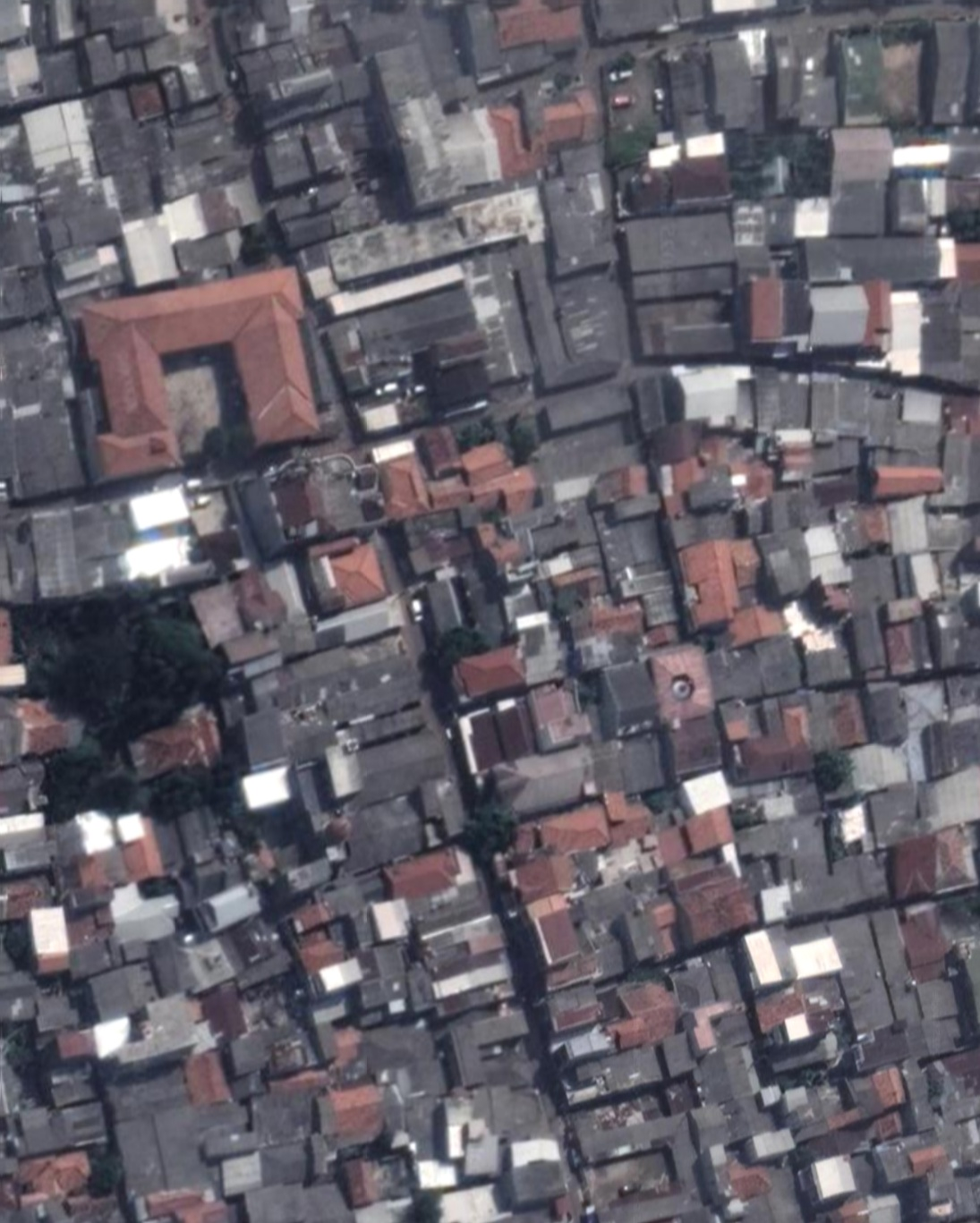building: (71, 268, 327, 483), (211, 612, 435, 785), (371, 29, 507, 208), (324, 184, 546, 284), (519, 862, 683, 996), (734, 799, 884, 937), (507, 222, 630, 388), (16, 86, 131, 254), (852, 903, 960, 1074), (188, 550, 324, 685), (236, 437, 380, 559), (569, 1091, 701, 1223), (101, 1057, 212, 1205), (0, 313, 85, 501), (0, 488, 137, 600), (344, 840, 485, 944), (104, 0, 228, 117), (430, 1074, 560, 1182), (584, 473, 690, 604), (312, 711, 448, 813), (135, 94, 256, 204), (152, 170, 274, 277), (399, 908, 517, 1018), (486, 73, 604, 178), (83, 85, 172, 224), (276, 882, 379, 1001), (556, 1028, 699, 1107), (431, 1000, 540, 1103), (238, 50, 370, 134), (468, 742, 592, 830), (663, 940, 756, 1057), (532, 140, 612, 274), (457, 248, 535, 384), (353, 285, 476, 367), (125, 702, 233, 792), (198, 1078, 321, 1156), (318, 788, 427, 874), (437, 995, 539, 1086), (658, 855, 754, 951), (717, 691, 814, 784), (839, 1052, 938, 1143), (621, 130, 732, 209), (822, 909, 891, 1035), (666, 532, 752, 633), (356, 1012, 446, 1108), (324, 260, 467, 318), (880, 821, 980, 902), (99, 992, 195, 1074), (144, 917, 242, 997), (97, 866, 186, 953), (767, 23, 839, 128), (0, 1086, 106, 1157), (295, 530, 387, 611), (0, 1138, 96, 1215), (73, 811, 164, 892), (83, 77, 161, 171), (617, 208, 731, 272), (459, 432, 541, 520), (257, 118, 350, 194), (810, 729, 908, 801), (331, 937, 418, 1016), (454, 691, 537, 772), (577, 725, 661, 805), (269, 175, 361, 247), (364, 432, 437, 522), (0, 196, 52, 322), (915, 281, 975, 389), (308, 1068, 391, 1145), (216, 1006, 300, 1082), (801, 232, 942, 277), (646, 638, 716, 727), (923, 15, 980, 124), (700, 33, 761, 134), (600, 977, 684, 1049), (747, 363, 831, 435), (632, 296, 729, 358), (796, 673, 870, 753), (835, 28, 895, 126), (662, 361, 751, 427), (237, 1173, 354, 1223), (80, 955, 160, 1028), (230, 31, 317, 98), (691, 1084, 779, 1150), (537, 377, 635, 436), (7, 685, 86, 758), (500, 836, 579, 908), (680, 1036, 759, 1107), (528, 670, 598, 750), (730, 187, 826, 244), (336, 0, 428, 59), (800, 371, 873, 445), (594, 654, 661, 733), (190, 968, 256, 1047), (649, 709, 724, 778), (500, 1128, 569, 1203), (190, 869, 266, 937), (421, 354, 499, 420), (490, 0, 585, 54), (910, 761, 980, 834), (866, 381, 939, 449), (752, 525, 811, 606), (522, 499, 599, 561), (536, 802, 612, 864), (121, 206, 178, 288), (448, 642, 527, 701), (777, 909, 842, 980), (638, 410, 713, 471), (882, 286, 932, 377), (852, 667, 908, 748), (120, 63, 192, 126), (511, 607, 569, 685), (526, 888, 585, 964), (453, 0, 507, 82), (609, 901, 675, 967), (805, 282, 870, 349), (413, 566, 472, 639), (731, 928, 793, 996), (844, 540, 906, 608), (621, 262, 731, 300), (699, 635, 760, 703), (175, 847, 244, 906), (733, 1167, 804, 1223), (627, 369, 686, 435), (113, 809, 165, 883), (597, 782, 657, 846), (749, 626, 805, 694), (919, 716, 980, 778), (116, 532, 193, 581), (828, 123, 893, 179), (72, 26, 129, 88), (30, 898, 72, 981), (718, 597, 786, 648), (757, 484, 827, 533), (567, 594, 643, 639), (934, 430, 979, 506), (172, 804, 227, 866), (542, 981, 605, 1035), (438, 1175, 507, 1223), (797, 1145, 854, 1203), (124, 482, 190, 532), (844, 603, 888, 677), (227, 911, 285, 967), (926, 608, 980, 668), (553, 1021, 616, 1072), (889, 832, 938, 897), (677, 803, 737, 856), (586, 460, 652, 508), (591, 0, 676, 37), (334, 1145, 383, 1209), (180, 1044, 229, 1108), (26, 45, 82, 101), (0, 39, 43, 111), (674, 766, 733, 818), (883, 173, 931, 236), (826, 180, 884, 232), (304, 19, 360, 72), (879, 617, 930, 675), (680, 469, 739, 518), (821, 1187, 900, 1223), (236, 762, 294, 811), (883, 495, 930, 555), (870, 464, 942, 503), (59, 903, 116, 952), (0, 871, 56, 920), (54, 240, 119, 282), (742, 272, 781, 340), (412, 420, 459, 476), (899, 678, 948, 731), (0, 758, 44, 816), (43, 1059, 95, 1107), (146, 813, 187, 873), (311, 1022, 362, 1068), (0, 117, 33, 188), (421, 467, 470, 514), (868, 1137, 913, 1187), (926, 1168, 970, 1219), (955, 937, 979, 1029), (123, 75, 169, 122), (936, 234, 980, 283), (194, 525, 244, 568), (0, 836, 54, 875), (647, 822, 690, 868), (929, 174, 979, 213), (156, 557, 218, 588), (0, 809, 47, 849), (906, 549, 942, 601), (0, 970, 37, 1020), (804, 645, 852, 683), (754, 881, 796, 924), (746, 1124, 794, 1160), (639, 582, 678, 626), (54, 270, 106, 303), (34, 992, 77, 1031), (926, 512, 969, 551), (904, 1140, 949, 1177), (300, 260, 339, 302), (941, 672, 980, 714), (52, 1026, 95, 1060), (46, 0, 80, 41), (949, 1177, 979, 1219), (881, 594, 923, 623), (0, 0, 28, 42), (77, 54, 104, 88), (90, 32, 103, 42)
tree: (0, 573, 165, 767), (118, 596, 228, 712), (94, 769, 241, 822), (35, 749, 103, 830), (723, 132, 784, 208), (419, 621, 490, 673), (461, 799, 520, 858), (594, 118, 659, 166), (201, 414, 255, 469), (787, 132, 829, 193), (500, 417, 548, 467), (254, 876, 299, 921), (811, 745, 854, 788), (0, 915, 36, 966), (453, 413, 496, 449), (64, 981, 96, 1026), (641, 778, 677, 812), (819, 814, 843, 856), (723, 801, 755, 831), (951, 206, 977, 236), (773, 254, 800, 282), (936, 889, 966, 912), (790, 1065, 815, 1091), (835, 790, 861, 810), (614, 48, 636, 67), (552, 70, 570, 87), (927, 1078, 943, 1093)
